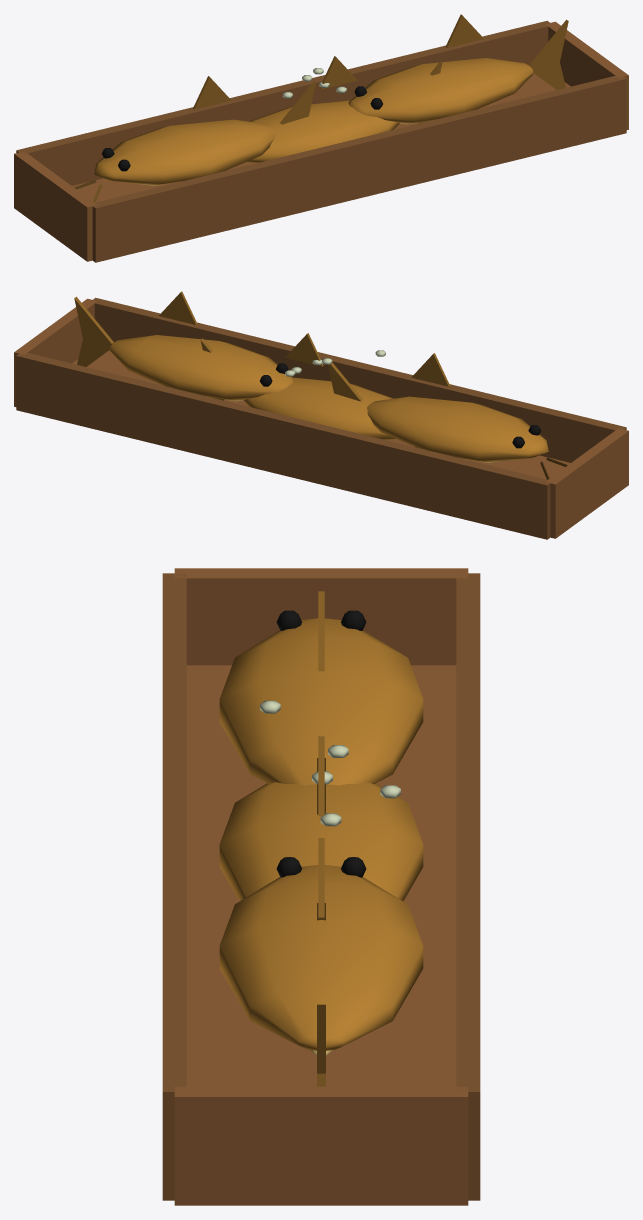
File: Fish_Carp.fbx
3 renders of one model, top to bottom at view 1: azimuth 30°, elevation 25°; view 2: azimuth 150°, elevation 25°; view 3: azimuth 270°, elevation 25°, orthographic. The views are drawn at different scales.
Visible parts, largest first — view 1: Fish_Carp__Stack, Fish_Carp; view 2: Fish_Carp__Stack, Fish_Carp; view 3: Fish_Carp__Stack, Fish_Carp, Fish_Carp__Rotten.
Boxes of the visible parts, left/top/right/bottom form: Fish_Carp__Stack: left=14, top=14, right=628, bottom=262; Fish_Carp: left=225, top=56, right=442, bottom=170; Fish_Carp__Stack: left=14, top=291, right=628, bottom=539; Fish_Carp: left=200, top=333, right=417, bottom=447; Fish_Carp__Stack: left=162, top=568, right=480, bottom=1205; Fish_Carp: left=219, top=736, right=423, bottom=920; Fish_Carp__Rotten: left=260, top=700, right=400, bottom=826.
Size of the model in its own units: 0.4169 by 0.0883 by 0.1059.
